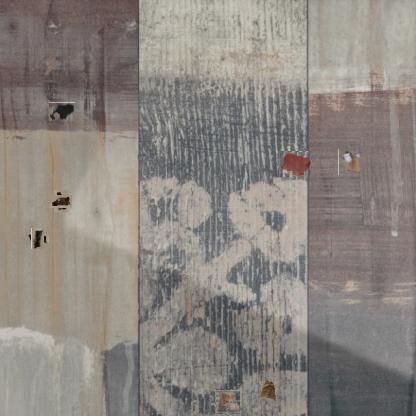dirty: (338, 150, 363, 176), (215, 390, 239, 415), (258, 379, 278, 401), (52, 192, 70, 210), (29, 230, 47, 247)
liquid: (279, 151, 311, 177), (49, 102, 75, 121)
